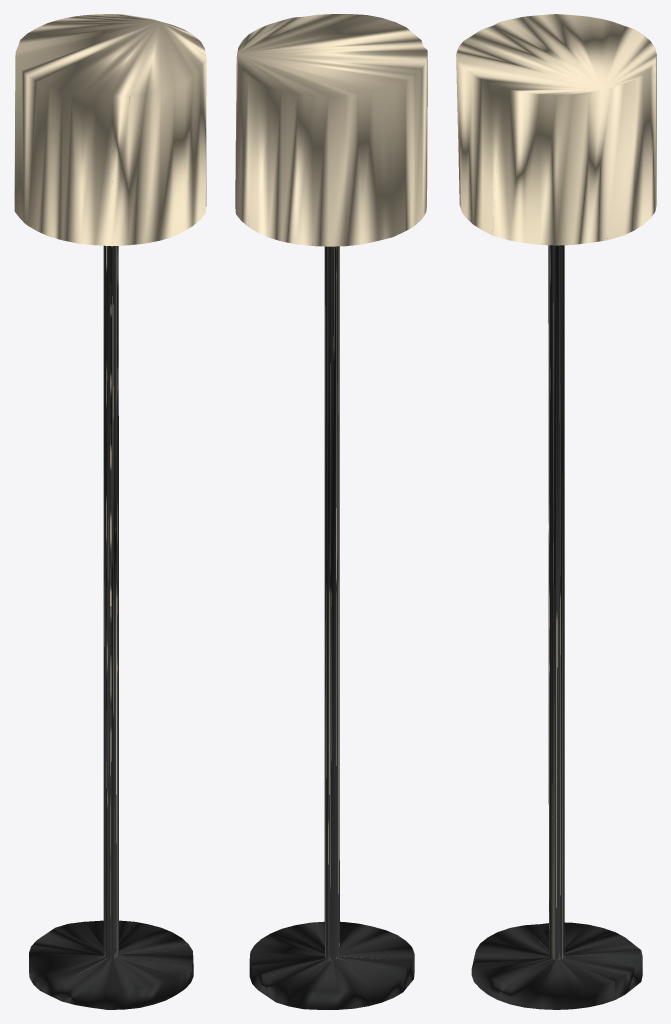
The model's file is floor_lamp.fbx.
3 views of the same model, side by side, from view 1: azimuth 30°, elevation 25°; view 2: azimuth 150°, elevation 25°; view 3: azimuth 270°, elevation 25° (orthographic).
Parts seen in each view (by area): view 1: Mesh_0; view 2: Mesh_0; view 3: Mesh_0.
Boxes of the visible parts, x1,y1,x2,y2 form: Mesh_0: (14, 14, 206, 1009); Mesh_0: (235, 14, 427, 1009); Mesh_0: (456, 14, 656, 1009).
Bounding box in the file's own units: 18.02 × 95.26 × 18.8.
1 material, 1 textured.
